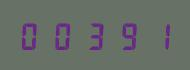nine: (111, 20, 141, 50)
one: (142, 20, 172, 50)
three: (80, 20, 110, 50)
zero: (18, 20, 48, 50), (49, 20, 79, 50)
